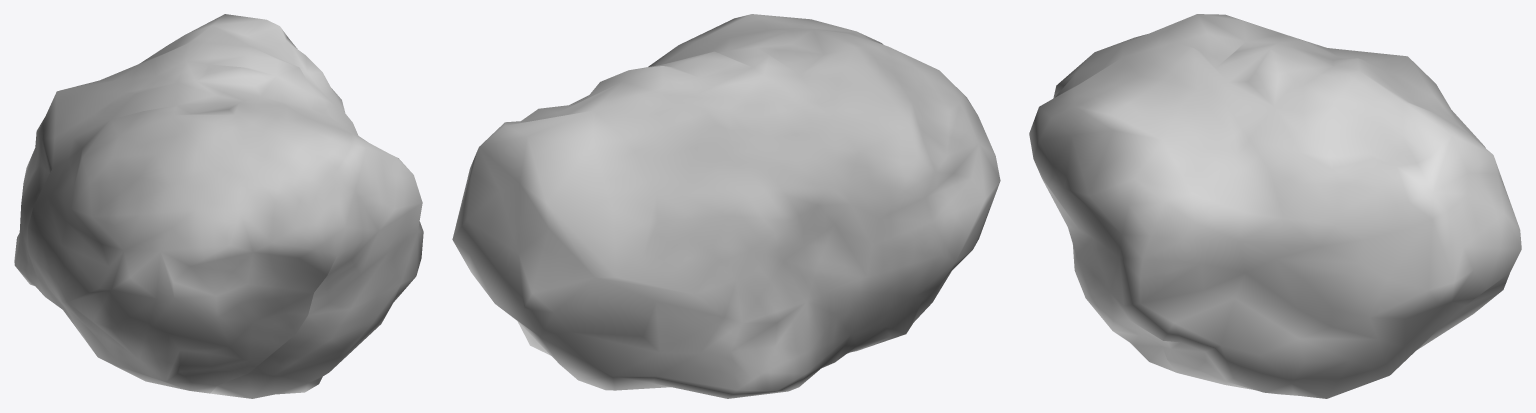
File: Mesh_RockSmall_C.fbx
3 renders of one model, left to right at view 1: azimuth 30°, elevation 25°; view 2: azimuth 150°, elevation 25°; view 3: azimuth 270°, elevation 25°, orthographic. The views are drawn at different scales.
Visible parts, largest first — view 1: SM_RockSmall_C_LOD0; view 2: SM_RockSmall_C_LOD0; view 3: SM_RockSmall_C_LOD0.
Part boxes in pixels (x1,y1,x2,y2): SM_RockSmall_C_LOD0: (14,14,423,398); SM_RockSmall_C_LOD0: (452,14,1000,398); SM_RockSmall_C_LOD0: (1029,14,1521,398).
Size of the model in its own units: 32.22 by 38.5 by 25.54.
1 material, 1 textured.
